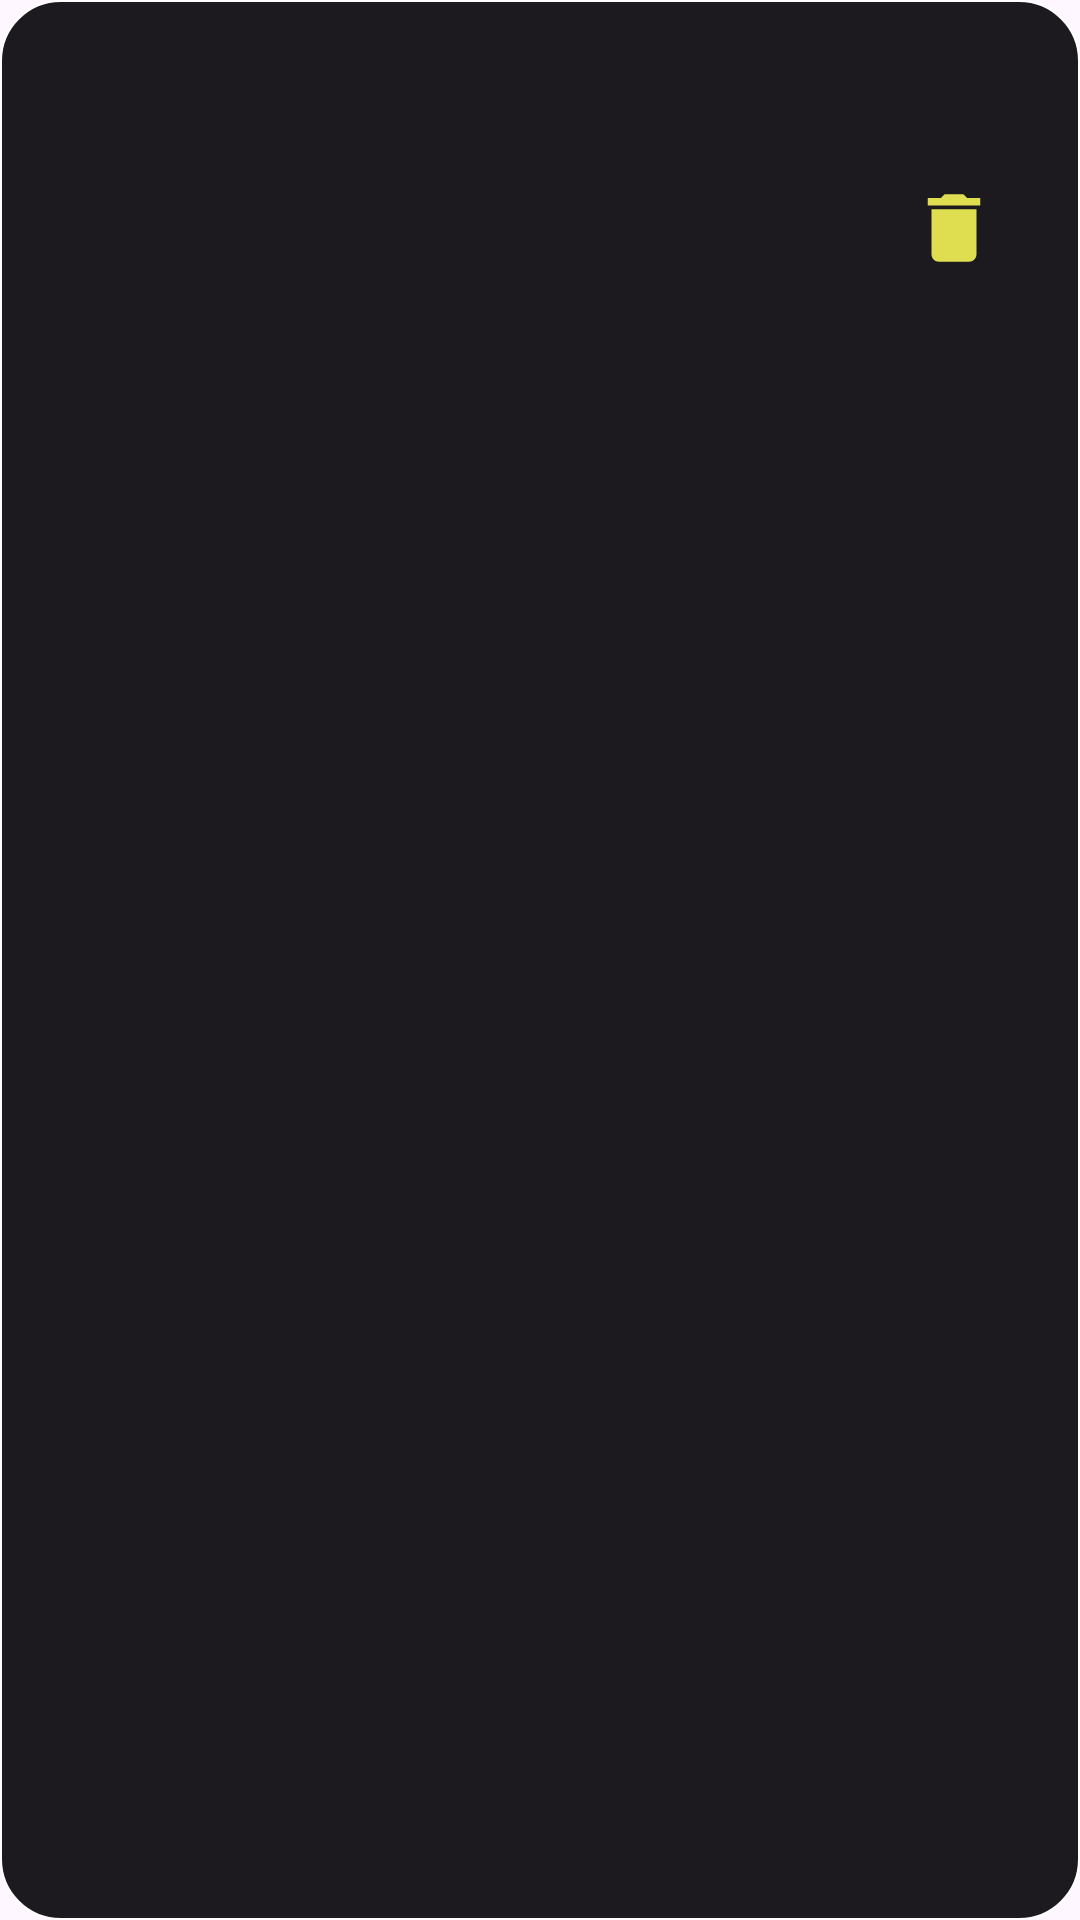

Screen size 1080px×1920px. Icon name, then its center in pixels as (x=x, y=y):
delete: (x=954, y=228)
